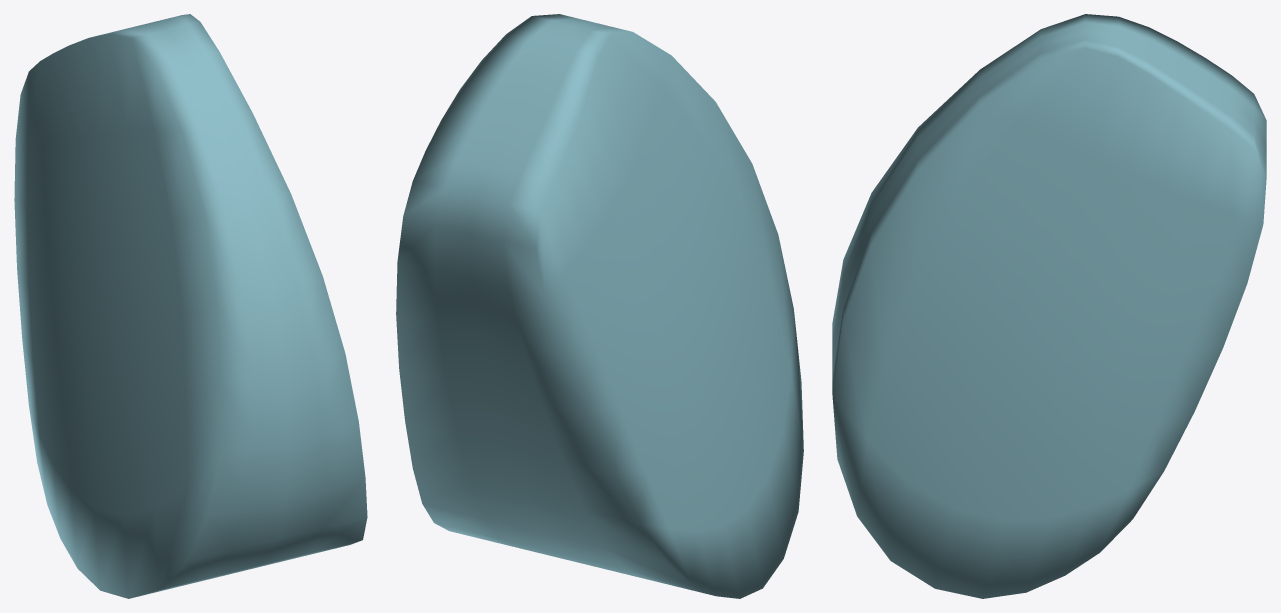
3 renders of one model, left to right at view 1: azimuth 30°, elevation 25°; view 2: azimuth 150°, elevation 25°; view 3: azimuth 270°, elevation 25°, orthographic. The views are drawn at different scales.
Parts seen in each view (by area): view 1: 耻骨间盘; view 2: 耻骨间盘; view 3: 耻骨间盘.
Boxes of the visible parts, x1,y1,x2,y2 form: 耻骨间盘: (14, 14, 367, 598); 耻骨间盘: (396, 14, 803, 598); 耻骨间盘: (832, 14, 1266, 598).
Size of the model in its own units: 0.0136 by 0.0275 by 0.0212.
